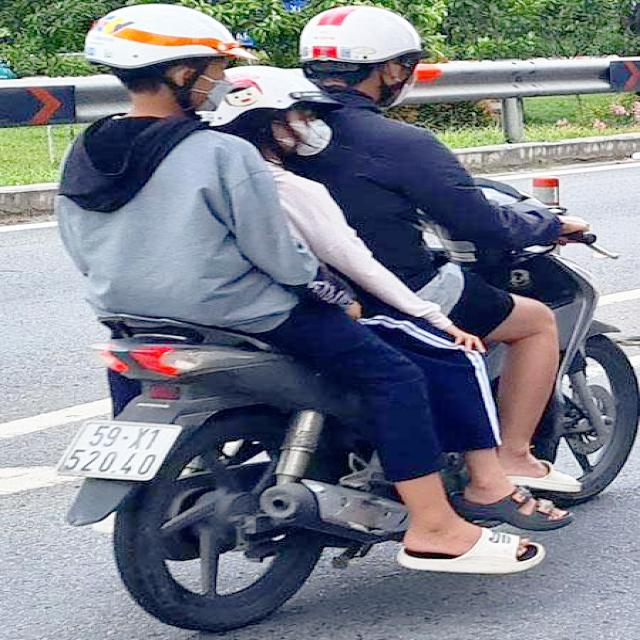license_plate: (52, 420, 184, 484)
